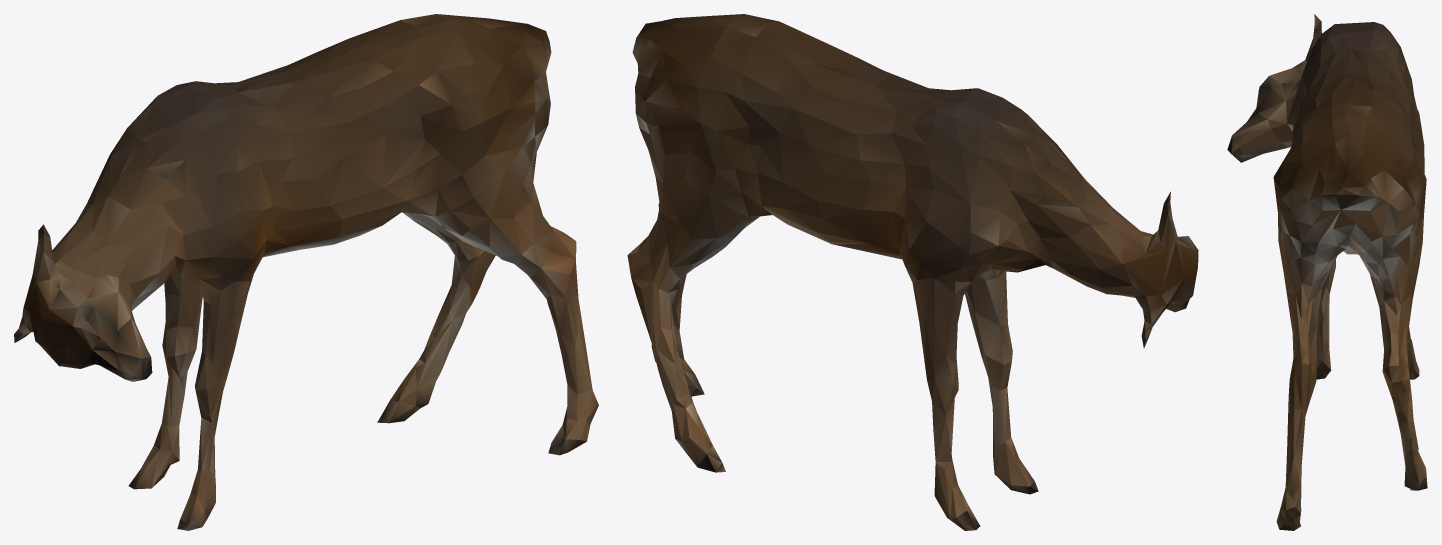
Rendered from deer_grazing.glb.
3 renders of one model, left to right at view 1: azimuth 30°, elevation 25°; view 2: azimuth 150°, elevation 25°; view 3: azimuth 270°, elevation 25°, orthographic. The views are drawn at different scales.
Visible parts, largest first — view 1: deer_grazing; view 2: deer_grazing; view 3: deer_grazing.
Part boxes in pixels (bbox=[...]): deer_grazing: bbox=[14, 14, 598, 530]; deer_grazing: bbox=[627, 14, 1198, 530]; deer_grazing: bbox=[1227, 14, 1427, 530].
Size of the model in its own units: 4.88 by 3.6 by 1.73.
